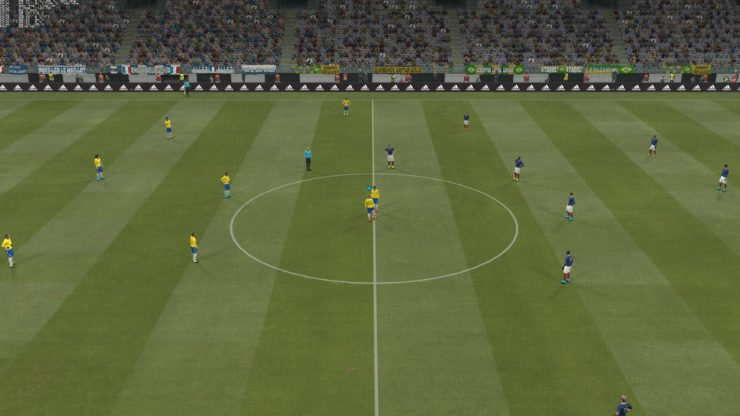player: (560, 249, 577, 283), (2, 232, 18, 267), (187, 232, 204, 264), (511, 156, 528, 181), (385, 143, 400, 170), (717, 164, 731, 192), (364, 195, 377, 219), (94, 154, 106, 179), (223, 172, 234, 199), (566, 191, 576, 219), (648, 133, 659, 157), (164, 115, 176, 136), (343, 95, 352, 117), (463, 110, 470, 129)
